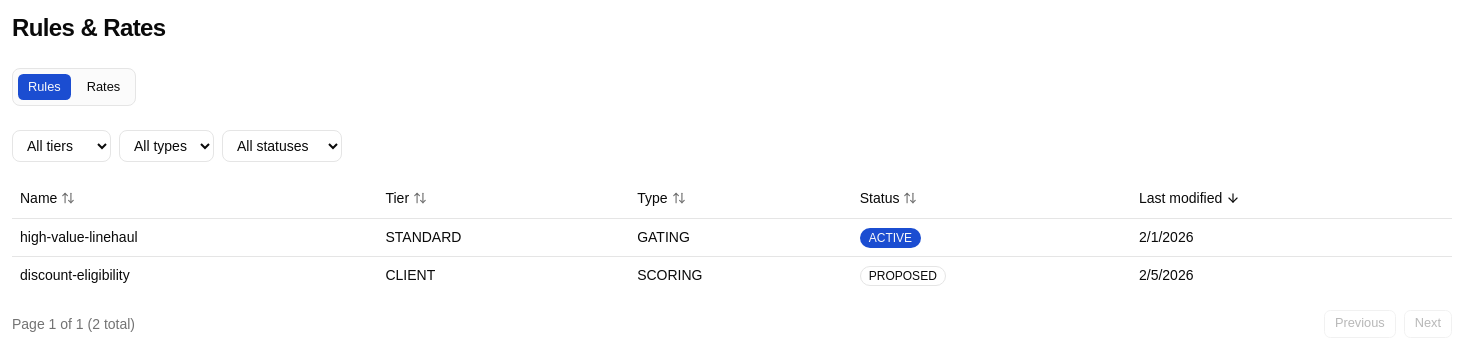
Test: RulesRatesPage › AC: Rates tab prompts for a tenant when none is active
Click the tab "Rates".
click(103, 87)  # box [76,73,131,101]
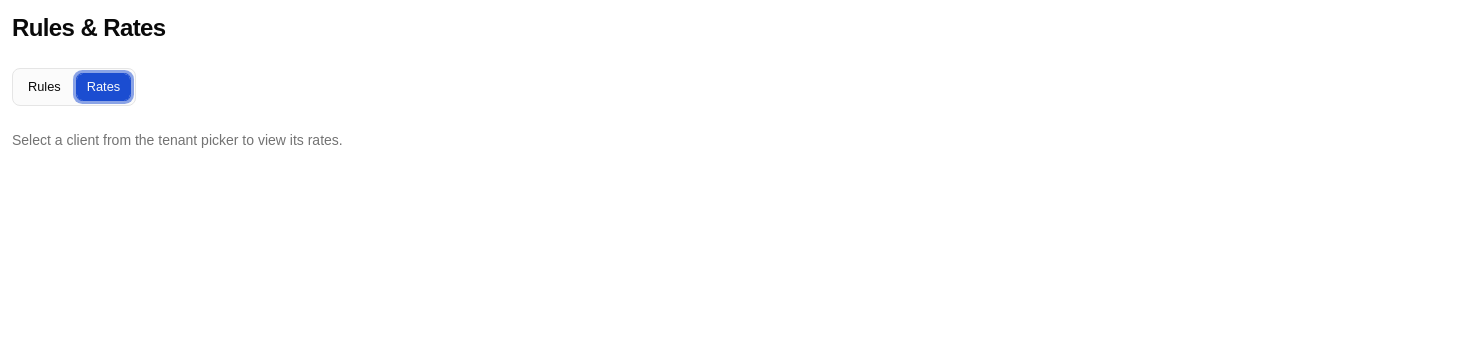
Result: the text "Select a client from the tenant picker to view its rates." is shown at [12,132,343,148]
